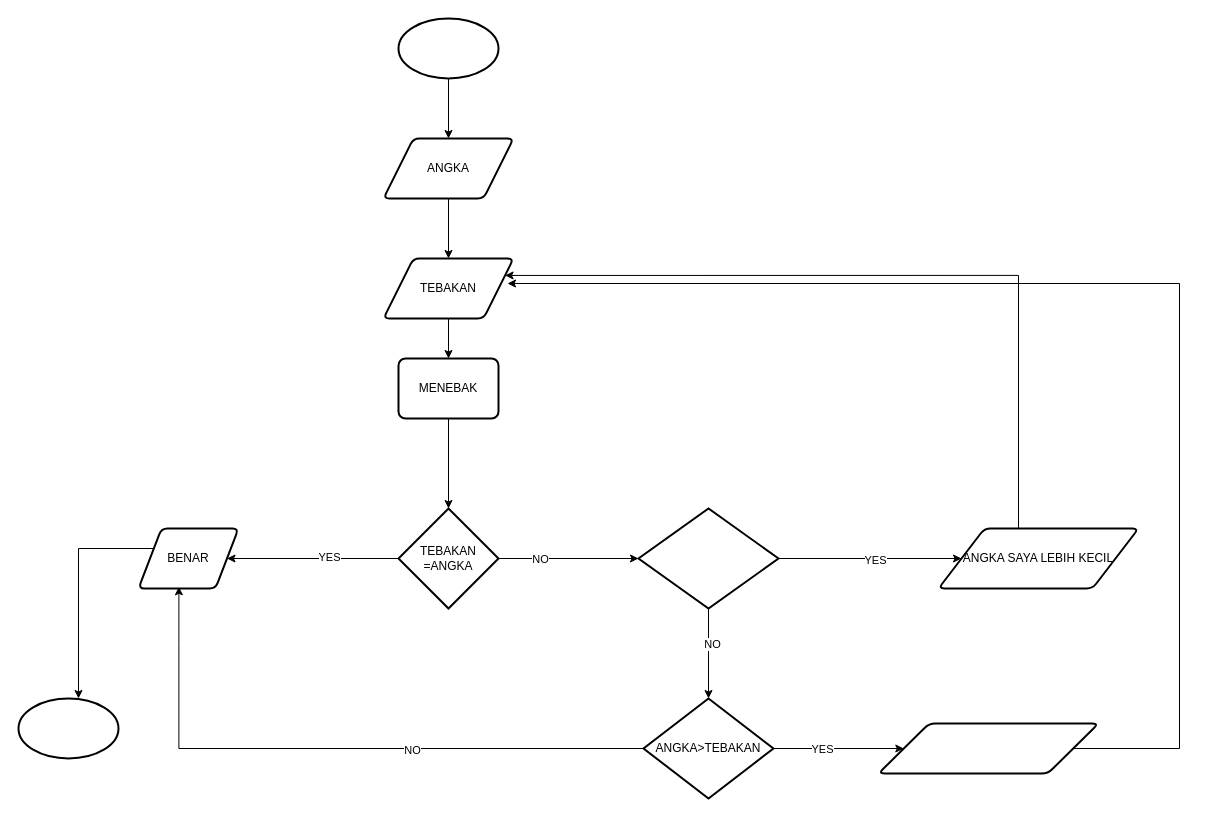
This 1205x816 diagram has some shape labels left out. The shapes that lost their labels are listed below. From the top down, each one's centre as x and y in pixels, then its label:
At (448,48): "MULAI".
At (708,558): "ANGKA<TEBAKAN".
At (68,728): "END".
At (988,748): "ANGKA SAYA LEBIH BESAR".
